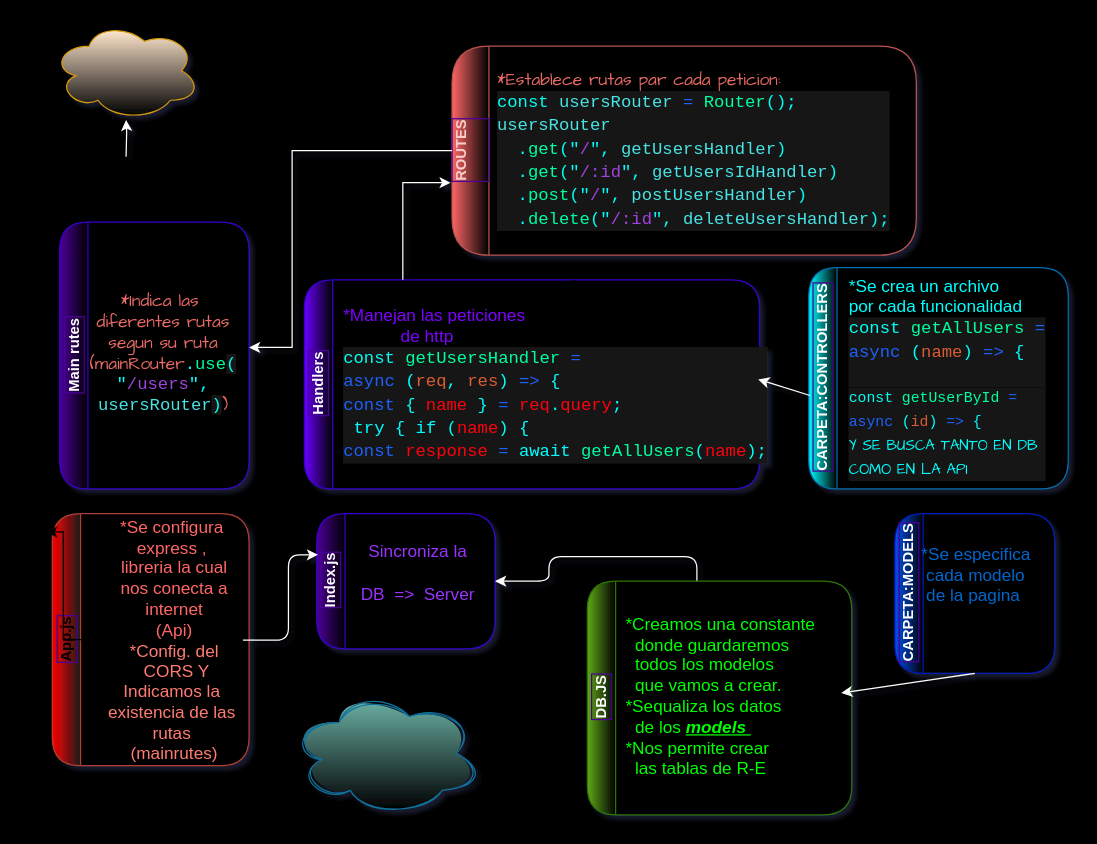
Some shapes in this 1097 by 844 pixel diagram are drawn without their labels. The centre of each missing label's shape, as x and y in pixels:
"BACKEND" goes at point (385, 753).
"FRONT" goes at point (125, 70).
